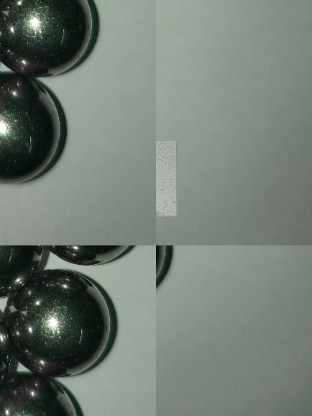ironball: (6, 271, 112, 373), (0, 66, 73, 184), (0, 0, 102, 76), (0, 374, 88, 414), (43, 244, 139, 266), (0, 246, 41, 296)
